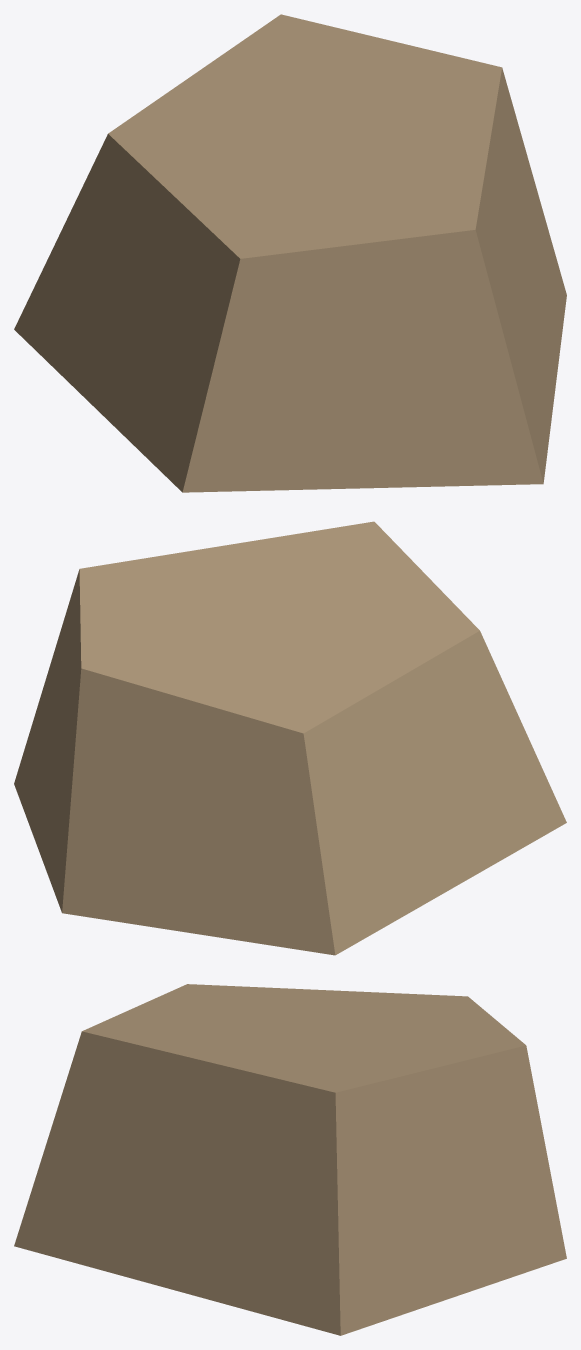
Rendered from TB_D_Env_StoneB_B.FBX.
3 views of the same model, one above another, from view 1: azimuth 30°, elevation 25°; view 2: azimuth 150°, elevation 25°; view 3: azimuth 270°, elevation 25° (orthographic). The views are drawn at different scales.
Parts seen in each view (by area): view 1: TB_D_Env_StoneB_B; view 2: TB_D_Env_StoneB_B; view 3: TB_D_Env_StoneB_B.
Part boxes in pixels (box(x1,y1,x2,y2)): TB_D_Env_StoneB_B: box(14, 14, 566, 492); TB_D_Env_StoneB_B: box(14, 521, 566, 955); TB_D_Env_StoneB_B: box(14, 984, 566, 1335).
Size of the model in its own units: 0.3265 by 0.1567 by 0.3663.
